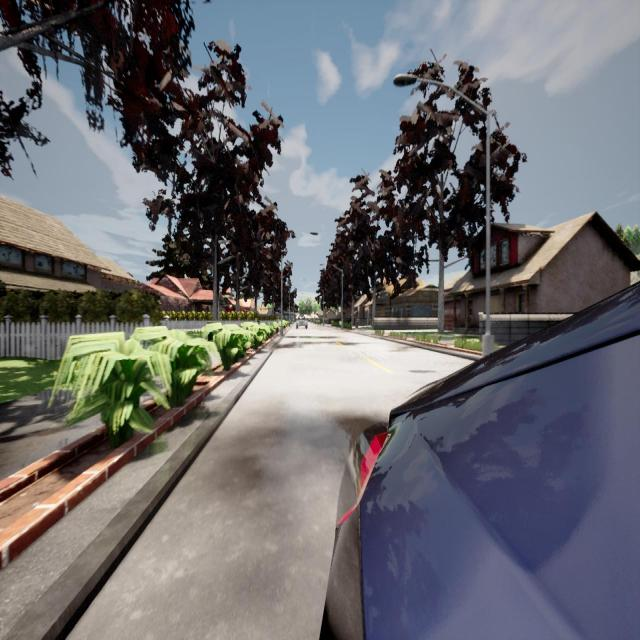Vehicle: (322, 281, 640, 640), (296, 313, 308, 330)
